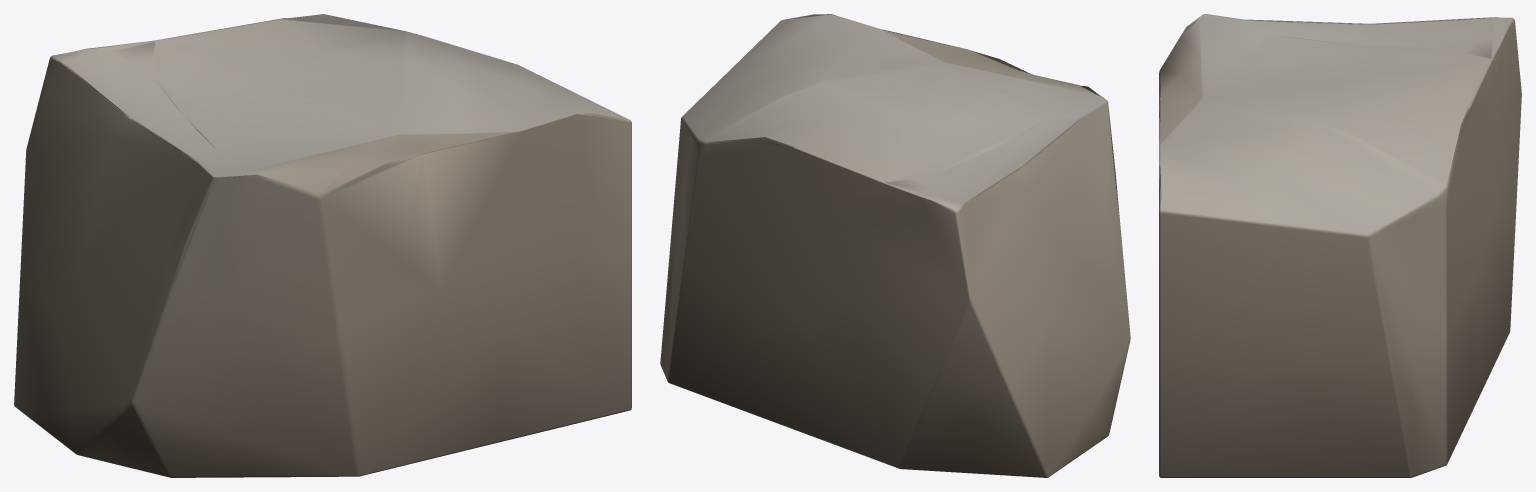
The model's file is glade_stepping_stone_d.glb.
The picture shows the model from 3 angles, left to right: view 1: azimuth 30°, elevation 25°; view 2: azimuth 150°, elevation 25°; view 3: azimuth 270°, elevation 25°; orthographic projection. The views are drawn at different scales.
Visible parts, largest first — view 1: glade_stepping_stone_d; view 2: glade_stepping_stone_d; view 3: glade_stepping_stone_d.
Boxes of the visible parts, x1=… form: glade_stepping_stone_d: x1=14, y1=14, x2=631, y2=477; glade_stepping_stone_d: x1=660, y1=14, x2=1130, y2=477; glade_stepping_stone_d: x1=1159, y1=14, x2=1521, y2=477.
Size of the model in its own units: 2.34 by 1.54 by 1.72.
